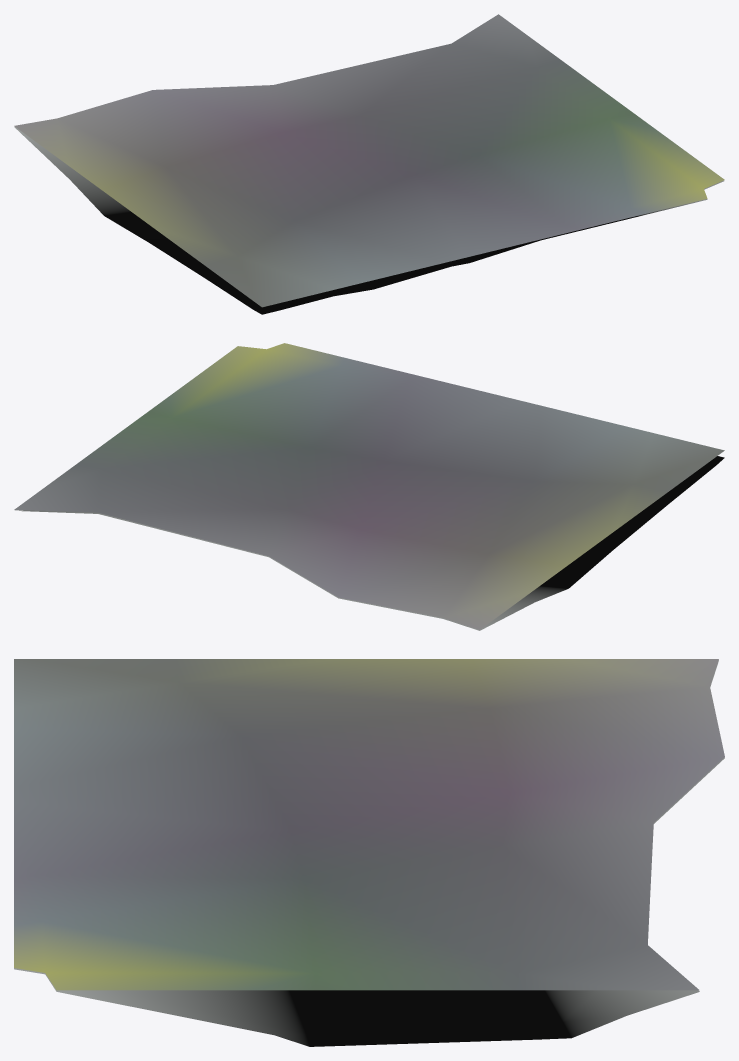
The picture shows the model from 3 angles, top to bottom: view 1: azimuth 30°, elevation 25°; view 2: azimuth 150°, elevation 25°; view 3: azimuth 270°, elevation 25°; orthographic projection. The views are drawn at different scales.
Visible parts, largest first — view 1: G:\FFXIV-MapTools\exports\r2f1\bg\ex1\01_roc_r2\fld\r2f1\bgp (×2); view 2: G:\FFXIV-MapTools\exports\r2f1\bg\ex1\01_roc_r2\fld\r2f1\bgp (×2); view 3: G:\FFXIV-MapTools\exports\r2f1\bg\ex1\01_roc_r2\fld\r2f1\bgp (×2).
Boxes of the visible parts, x1=… form: G:\FFXIV-MapTools\exports\r2f1\bg\ex1\01_roc_r2\fld\r2f1\bgp (×2): x1=14, y1=14, x2=724, y2=314; G:\FFXIV-MapTools\exports\r2f1\bg\ex1\01_roc_r2\fld\r2f1\bgp (×2): x1=14, y1=343, x2=724, y2=630; G:\FFXIV-MapTools\exports\r2f1\bg\ex1\01_roc_r2\fld\r2f1\bgp (×2): x1=14, y1=659, x2=724, y2=1046.
Size of the model in its own units: 128 by 10.19 by 116.
